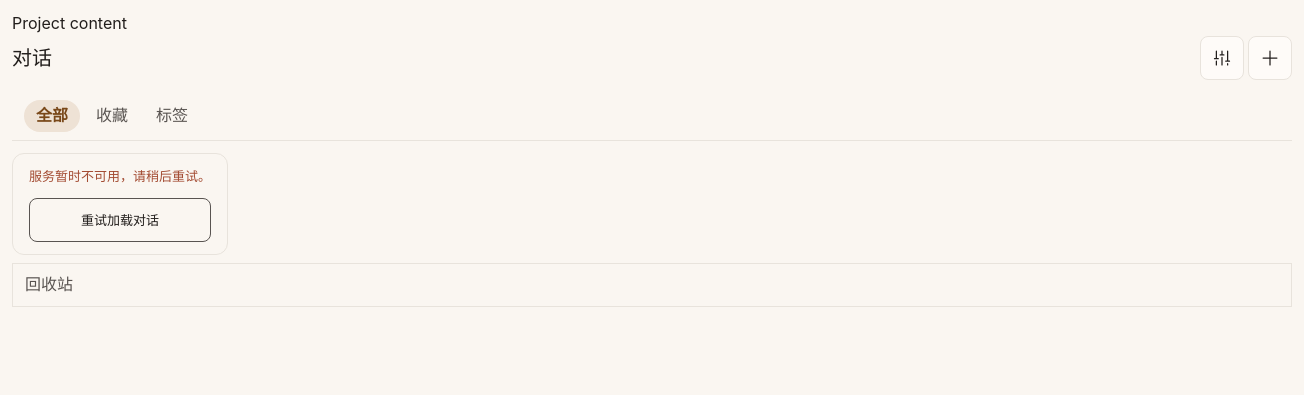
Test case: persistent project thread list and creation › renders an alert and retries a failed strict list read
The image size is (1304, 395).
Expected: the message shows "服务暂时不可用", [29, 168, 211, 184]
Click the button "重试加载对话" at [120, 220], box [29, 198, 211, 242]
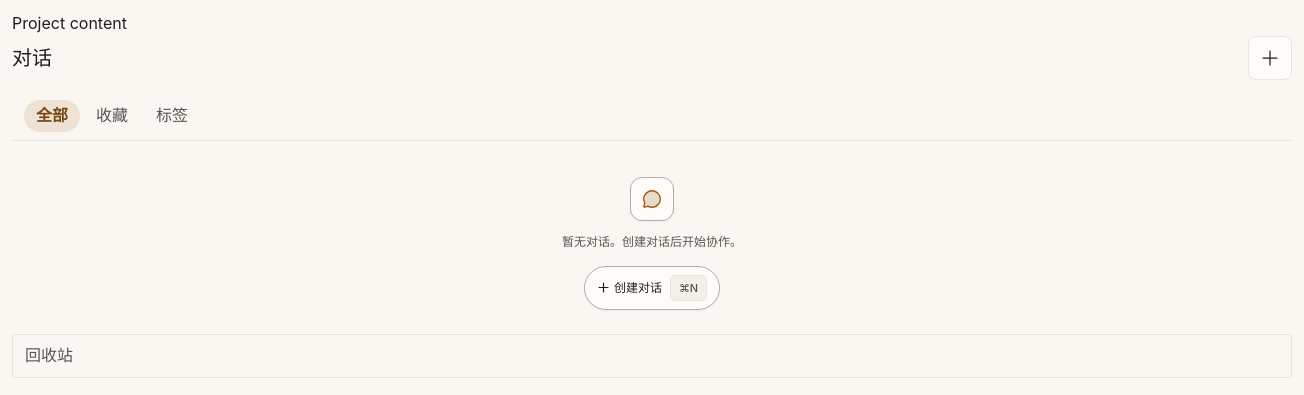
Expected: the text "暂无对话。创建对话后开始协作。" is shown, [562, 232, 742, 250]
